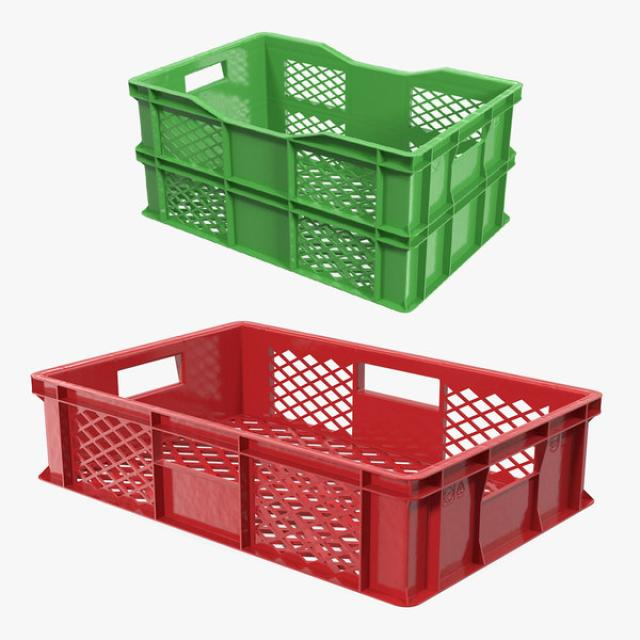basket: (2, 283, 615, 639), (96, 7, 536, 328)
